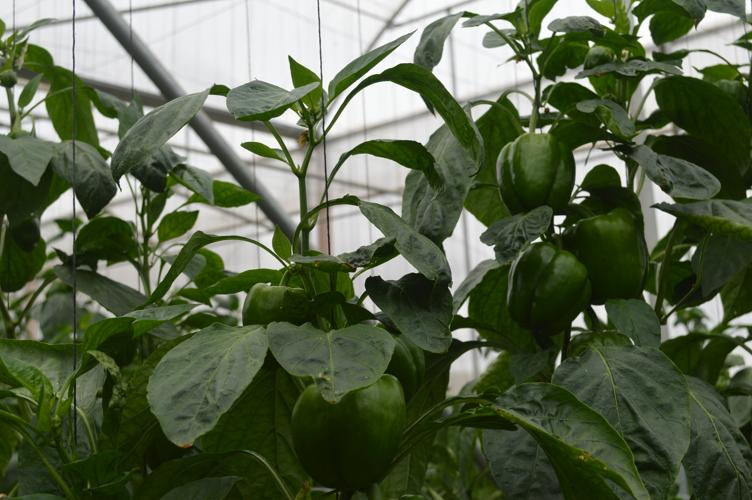BellPepper: (283, 359, 397, 489), (482, 119, 595, 220), (497, 227, 587, 348), (563, 205, 651, 308), (235, 271, 316, 370), (355, 315, 434, 399)
